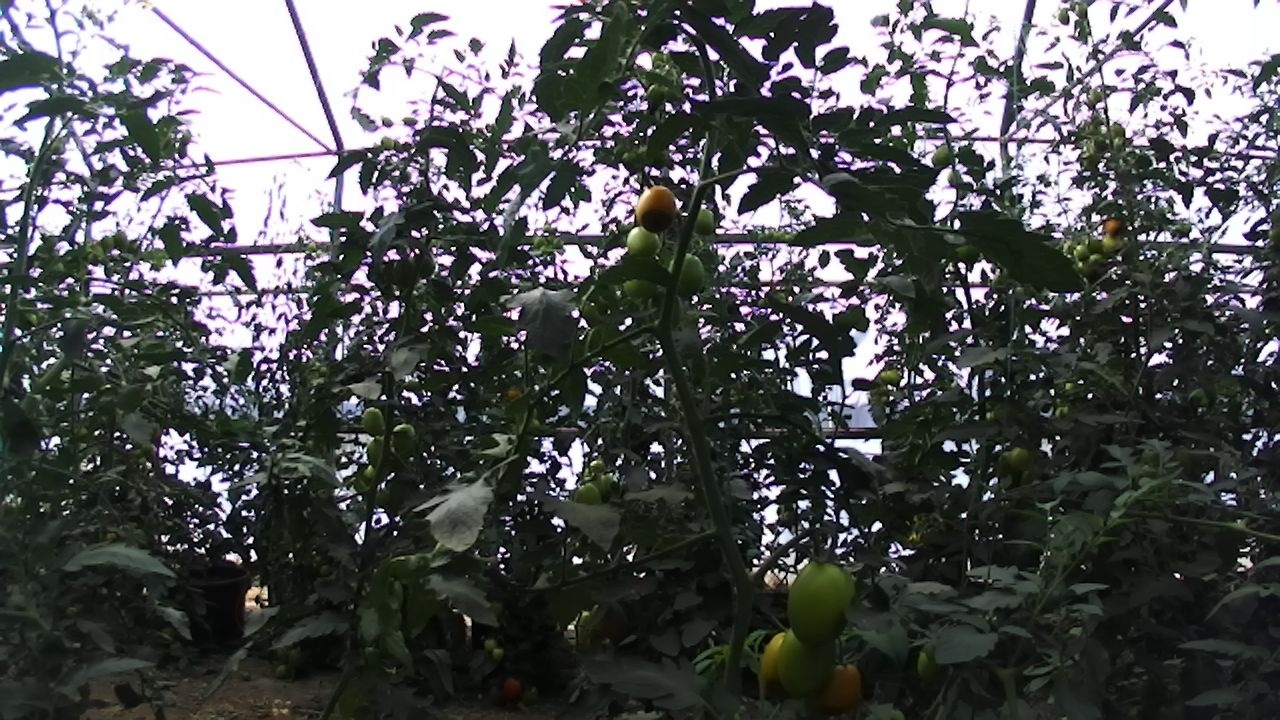tomato: (778, 542, 869, 655), (771, 618, 848, 707), (745, 620, 813, 713), (810, 653, 879, 720), (627, 177, 684, 239), (658, 245, 711, 301), (619, 217, 670, 269), (646, 284, 695, 334), (685, 198, 727, 242), (907, 638, 944, 685), (358, 432, 397, 475), (569, 474, 607, 515), (354, 401, 393, 440), (925, 138, 962, 174), (640, 78, 672, 118), (1003, 442, 1034, 472), (496, 674, 526, 704), (1079, 231, 1107, 260), (1069, 240, 1096, 265), (283, 645, 307, 673), (110, 226, 133, 255), (618, 150, 644, 175), (1100, 215, 1126, 239), (1097, 234, 1124, 257), (882, 366, 905, 389), (97, 233, 118, 255), (487, 644, 508, 665), (480, 634, 500, 656), (272, 662, 295, 681), (377, 134, 398, 153), (400, 114, 419, 129), (379, 115, 395, 130)
